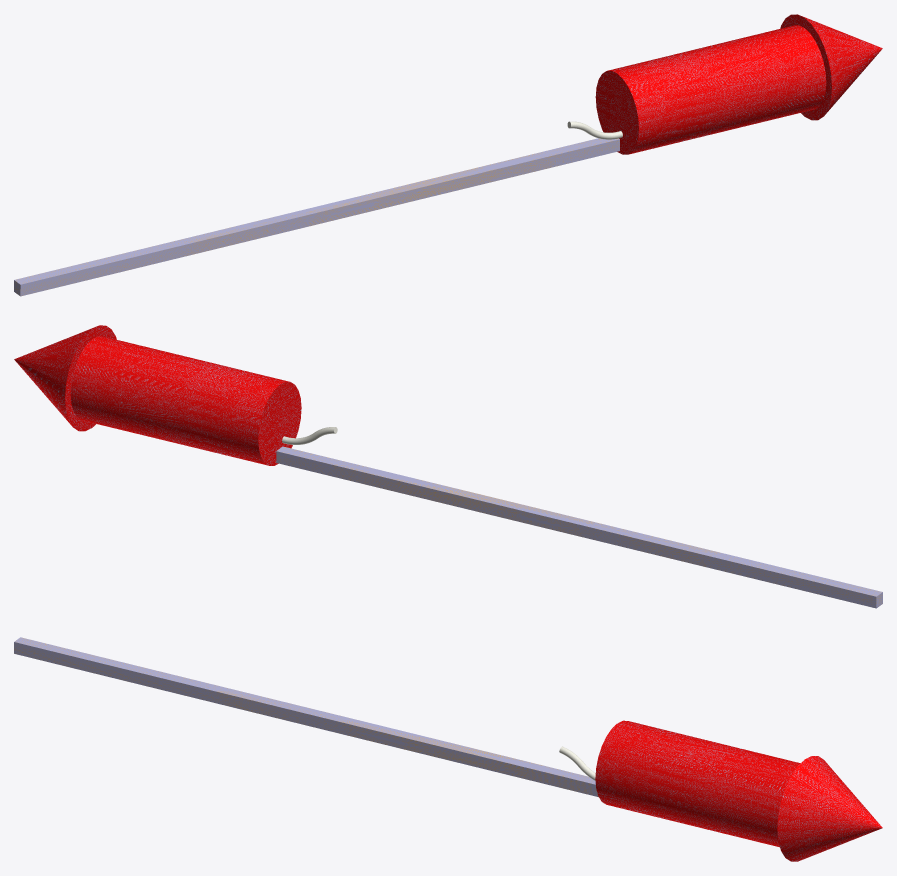
File: firework.dae
3 renders of one model, top to bottom at view 1: azimuth 30°, elevation 25°; view 2: azimuth 150°, elevation 25°; view 3: azimuth 330°, elevation 25°, orthographic.
Parts seen in each view (by area): view 1: instance_1_001, instance_1_005, instance_1, instance_1_004; view 2: instance_1_001, instance_1_005, instance_1, instance_1_004; view 3: instance_1_001, instance_1_005, instance_1.
Part boxes in pixels (x1=…): instance_1_001: x1=595, y1=25, x2=826, y2=154; instance_1_005: x1=14, y1=138, x2=619, y2=296; instance_1: x1=799, y1=15, x2=882, y2=115; instance_1_004: x1=780, y1=14, x2=831, y2=120; instance_1_001: x1=70, y1=336, x2=301, y2=465; instance_1_005: x1=276, y1=446, x2=882, y2=608; instance_1: x1=14, y1=326, x2=97, y2=426; instance_1_004: x1=65, y1=325, x2=116, y2=431; instance_1_001: x1=595, y1=720, x2=800, y2=847; instance_1_005: x1=14, y1=637, x2=598, y2=797; instance_1: x1=777, y1=756, x2=882, y2=861.
Bounding box in the file's own units: 0.634 × 0.0692 × 0.0692.
